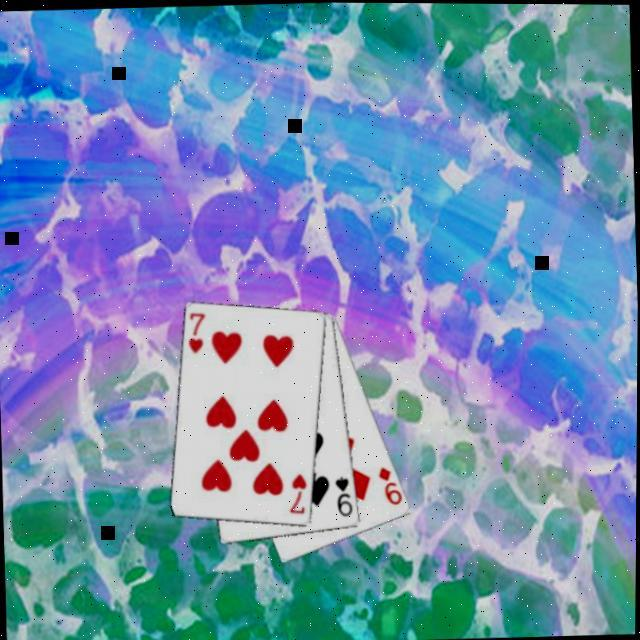7H: (286, 471, 312, 518), (186, 311, 211, 358)
9D: (378, 464, 408, 509)
9S: (334, 473, 358, 520)
